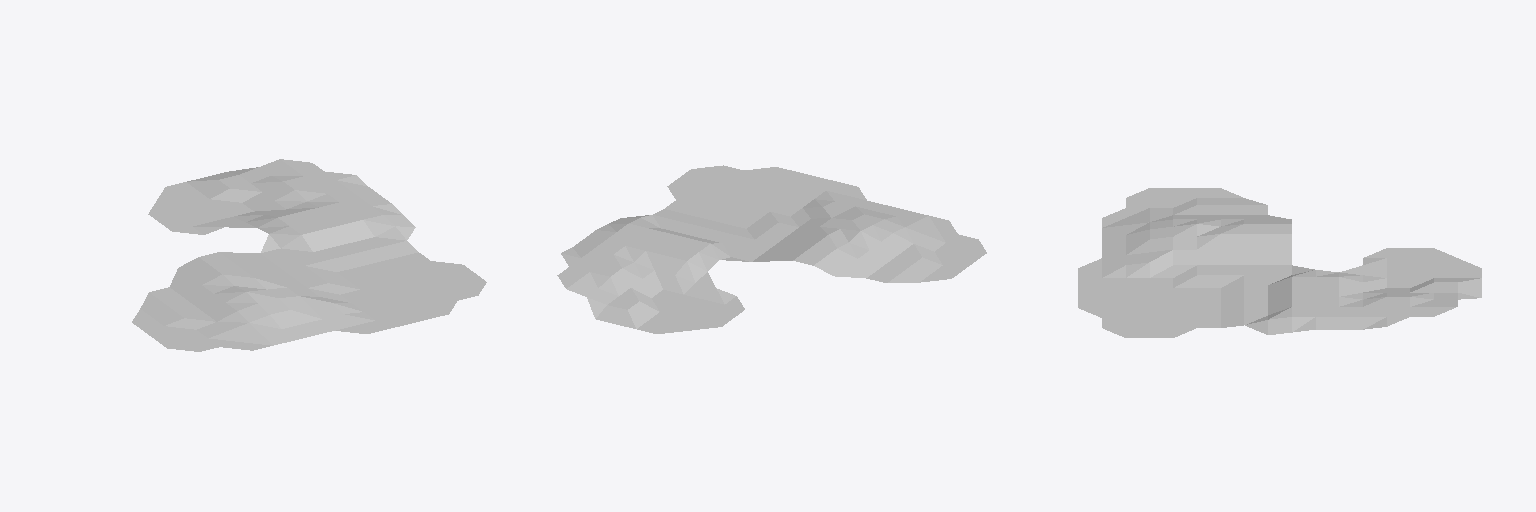
The model's file is island3.obj.
3 renders of one model, left to right at view 1: azimuth 30°, elevation 25°; view 2: azimuth 150°, elevation 25°; view 3: azimuth 270°, elevation 25°, orthographic.
Parts seen in each view (by area): view 1: plane; view 2: plane; view 3: plane.
Boxes of the visible parts, x1,y1,x2,y2 form: plane: [132, 159, 486, 351]; plane: [557, 165, 986, 333]; plane: [1078, 188, 1481, 337].
Bounding box in the file's own units: 7.06 × 0.3125 × 8.